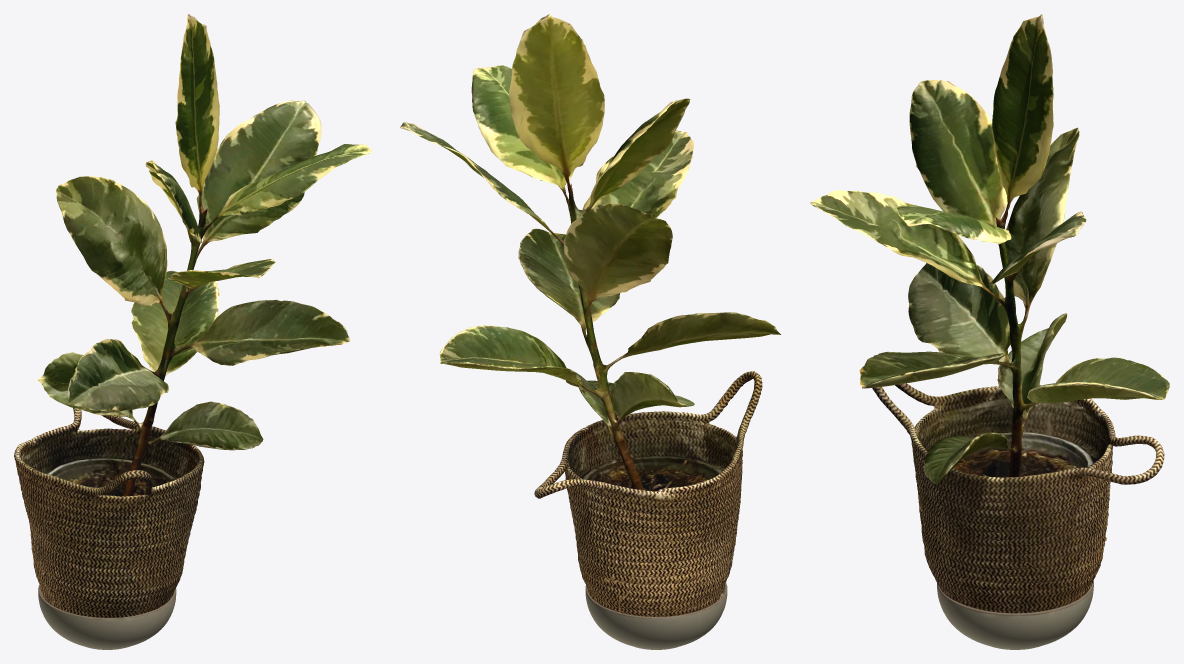
Rendered from fig.glb.
3 views of the same model, side by side, from view 1: azimuth 30°, elevation 25°; view 2: azimuth 150°, elevation 25°; view 3: azimuth 270°, elevation 25° (orthographic). The views are drawn at different scales.
Visible parts, largest first — view 1: Polygon_1, Soup__Cereal_Bowl; view 2: Polygon_1, Soup__Cereal_Bowl; view 3: Polygon_1, Soup__Cereal_Bowl.
Part boxes in pixels (box(x1,y1,x2,y2)): Polygon_1: box(14, 14, 371, 617); Soup__Cereal_Bowl: box(38, 585, 176, 649); Polygon_1: box(400, 14, 780, 616); Soup__Cereal_Bowl: box(585, 583, 727, 649); Polygon_1: box(810, 14, 1169, 613); Soup__Cereal_Bowl: box(937, 581, 1093, 649).
Size of the model in its own units: 0.5797 by 1.07 by 0.5178.
Materials: 2 (2 with a texture image).
